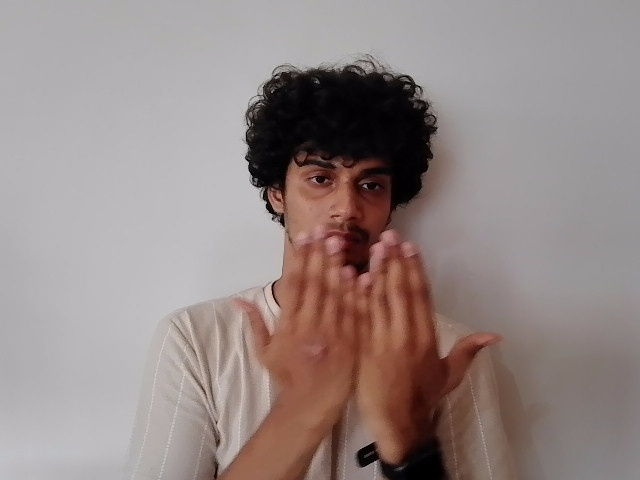school: (234, 229, 500, 430)
